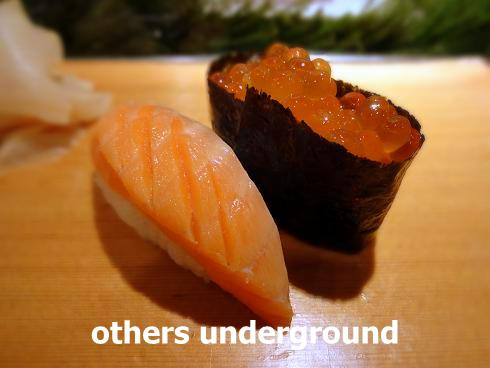salmon: (89, 93, 300, 335)
